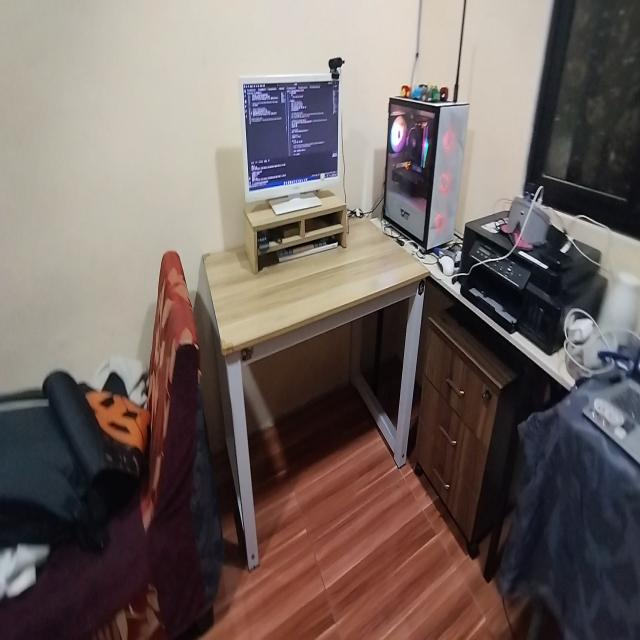table: (212, 194, 432, 559)
